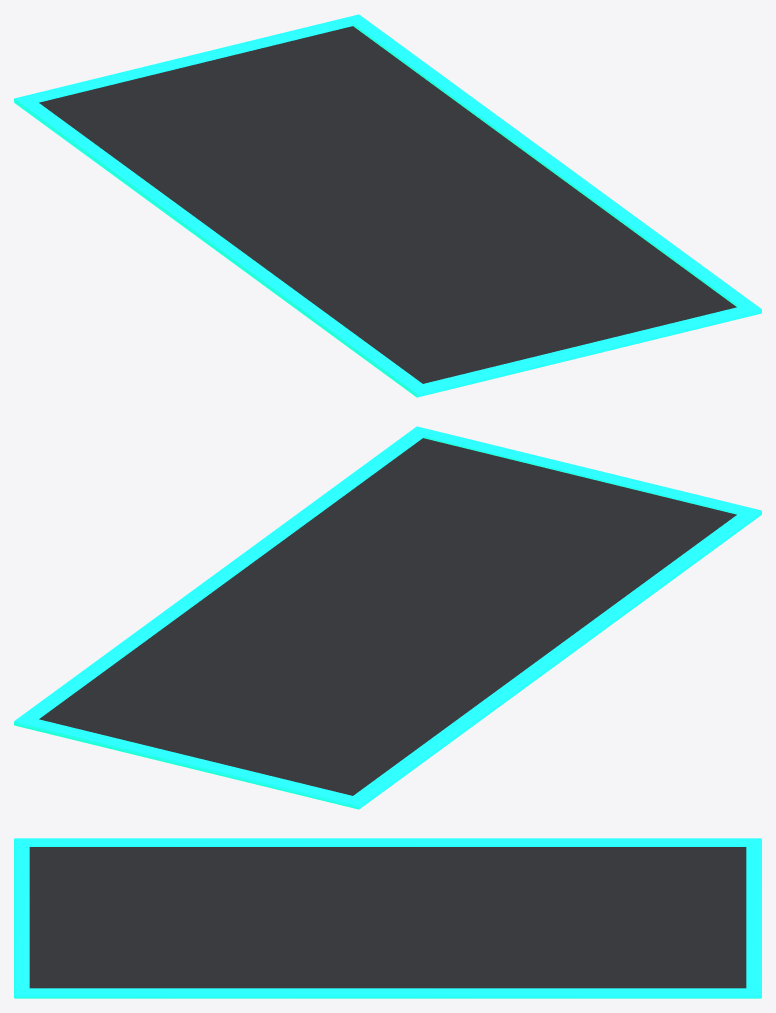
File: acc_dust_filter.glb
The picture shows the model from 3 angles, top to bottom: view 1: azimuth 30°, elevation 25°; view 2: azimuth 150°, elevation 25°; view 3: azimuth 270°, elevation 25°; orthographic projection. The views are drawn at different scales.
Parts seen in each view (by area): view 1: Acc_DustFilter, RGB_Filter_Frame; view 2: Acc_DustFilter, RGB_Filter_Frame; view 3: Acc_DustFilter, RGB_Filter_Frame.
Part boxes in pixels (bbox=[...]): Acc_DustFilter: bbox=[39, 26, 736, 383]; RGB_Filter_Frame: bbox=[14, 14, 761, 397]; Acc_DustFilter: bbox=[39, 438, 736, 795]; RGB_Filter_Frame: bbox=[14, 426, 761, 809]; Acc_DustFilter: bbox=[29, 847, 746, 988]; RGB_Filter_Frame: bbox=[14, 838, 761, 998].
Size of the model in its own units: 1.88 by 0.028 by 3.8.
